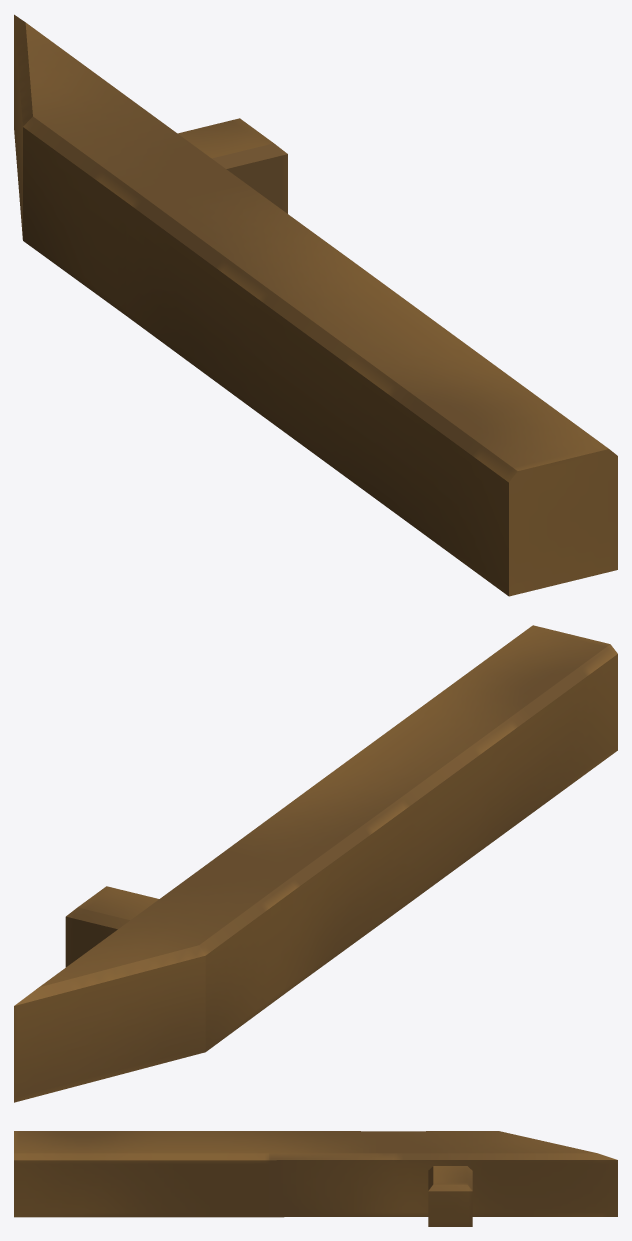
Rendered from Schloss_smooth_haken.glb.
3 views of the same model, one above another, from view 1: azimuth 30°, elevation 25°; view 2: azimuth 150°, elevation 25°; view 3: azimuth 270°, elevation 25° (orthographic). The views are drawn at different scales.
Visible parts, largest first — view 1: Cube.003; view 2: Cube.003; view 3: Cube.003.
Part boxes in pixels (x1,y1,x2,y2): Cube.003: (14, 14, 617, 596); Cube.003: (14, 625, 617, 1102); Cube.003: (14, 1131, 617, 1226).
Bounding box in the file's own units: 0.1092 × 0.0666 × 0.592.
1 material, 1 textured.
